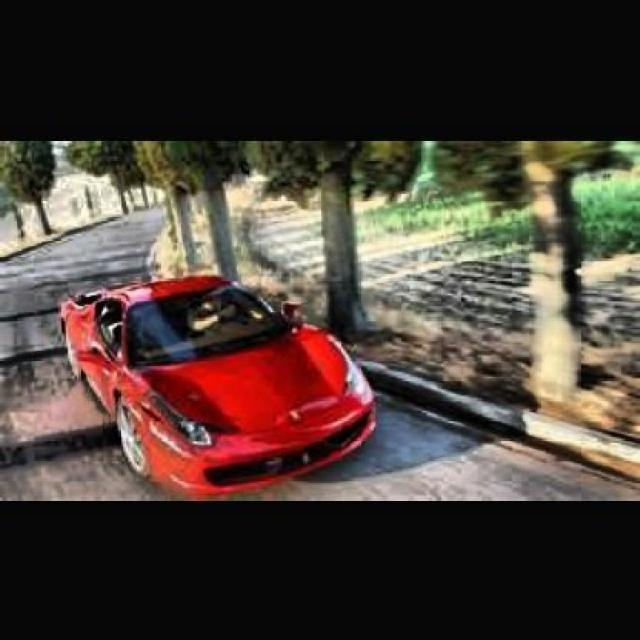red: (67, 281, 372, 492)
